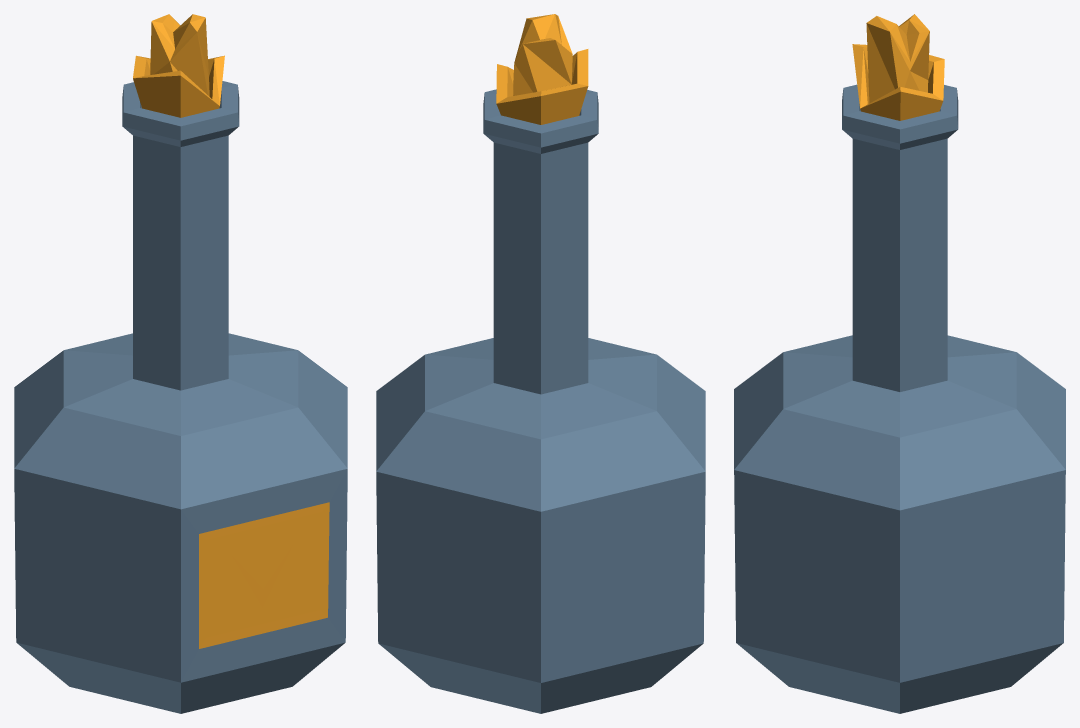
The model's file is SM_Bottle_Alchemy_Aqua_Full.fbx.
The picture shows the model from 3 angles, left to right: view 1: azimuth 30°, elevation 25°; view 2: azimuth 150°, elevation 25°; view 3: azimuth 270°, elevation 25°; orthographic projection.
Visible parts, largest first — view 1: bottle-alchemy-aqua-full; view 2: bottle-alchemy-aqua-full; view 3: bottle-alchemy-aqua-full.
Part boxes in pixels (x1,y1,x2,y2): bottle-alchemy-aqua-full: [14, 14, 347, 713]; bottle-alchemy-aqua-full: [376, 14, 705, 713]; bottle-alchemy-aqua-full: [734, 14, 1065, 713].
Bounding box in the file's own units: 0.1786 × 0.3306 × 0.1547.
